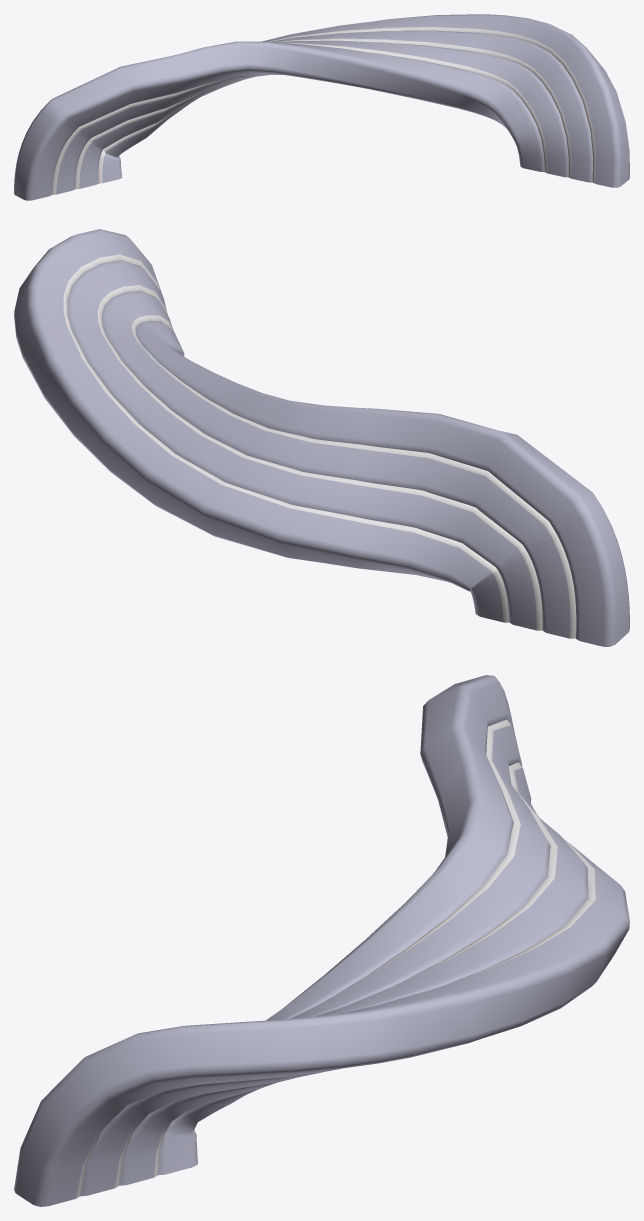
File: Pipe_8.fbx
3 views of the same model, one above another, from view 1: azimuth 30°, elevation 25°; view 2: azimuth 150°, elevation 25°; view 3: azimuth 270°, elevation 25° (orthographic). The views are drawn at different scales.
Parts seen in each view (by area): view 1: Pipe_8; view 2: Pipe_8; view 3: Pipe_8.
Boxes of the visible parts, x1=… form: Pipe_8: x1=14, y1=14, x2=629, y2=200; Pipe_8: x1=14, y1=229, x2=629, y2=646; Pipe_8: x1=14, y1=675, x2=629, y2=1206.
Bounding box in the file's own units: 12.23 × 2.78 × 7.76.
